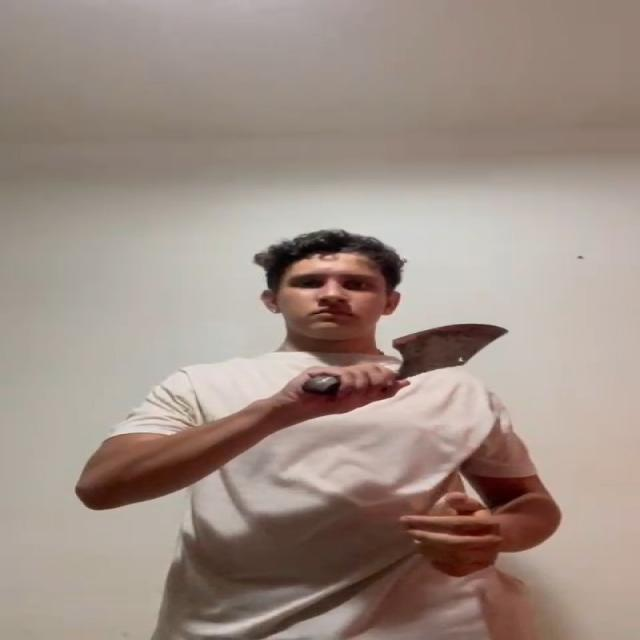knife: (387, 320, 513, 372)
